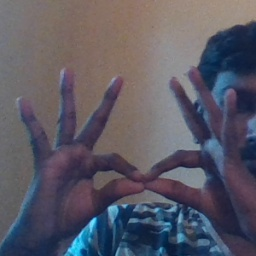B: (63, 114, 228, 223)
